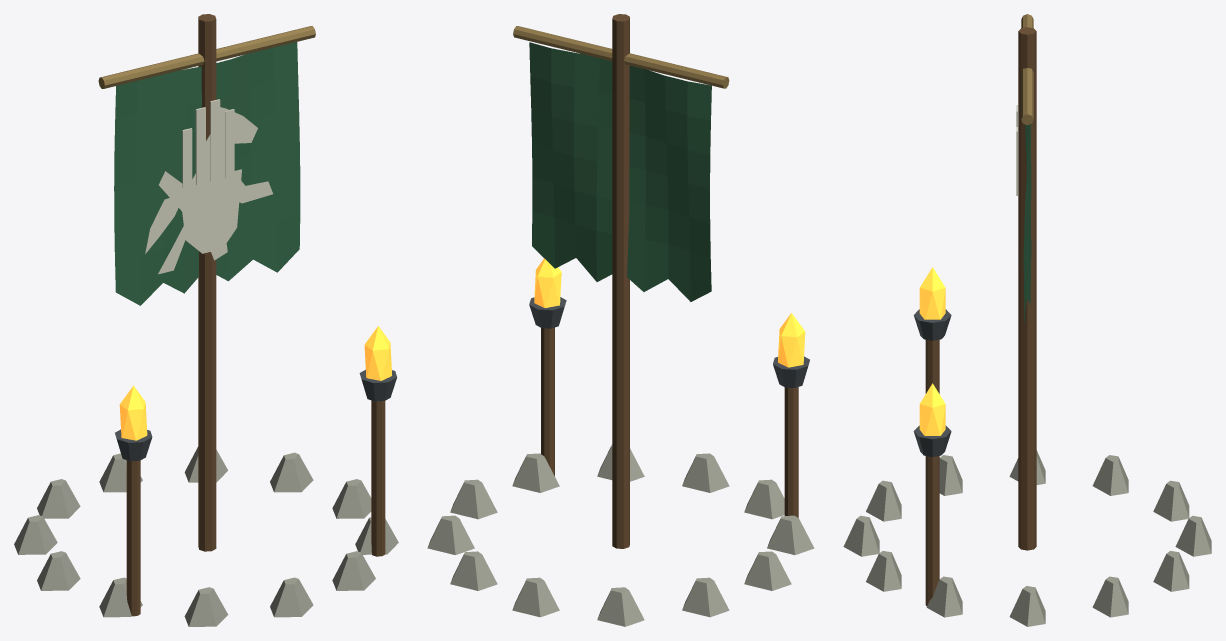
File: vado_nexos.glb
3 views of the same model, side by side, from view 1: azimuth 30°, elevation 25°; view 2: azimuth 150°, elevation 25°; view 3: azimuth 270°, elevation 25° (orthographic). The views are drawn at different scales.
Visible parts, largest first — view 1: nexo_rohan__estandarte, nexo_rohan__mastil, nexo_rohan__caballo_blanco, nexo_rohan__travesano, nexo_isengard__palma, nexo_rohan__antorcha.001, nexo_rohan__antorcha, nexo_rohan__rock_smallA.001, nexo_rohan__rock_smallA.009, nexo_rohan__rock_smallA.010, nexo_rohan__rock_smallA.008, nexo_rohan__rock_smallA.005 (+17 smaller); view 2: nexo_rohan__estandarte, nexo_rohan__mastil, nexo_rohan__travesano, nexo_rohan__antorcha, nexo_rohan__antorcha.001, nexo_rohan__rock_smallA.009, nexo_rohan__rock_smallA.002, nexo_rohan__rock_smallA.004, nexo_rohan__rock_smallA.006, nexo_rohan__rock_smallA.007, nexo_rohan__rock_smallA.011, nexo_rohan__rock_smallA.003 (+9 smaller); view 3: nexo_rohan__mastil, nexo_rohan__antorcha.001, nexo_rohan__estandarte, nexo_rohan__fuego, nexo_rohan__fuego.001, nexo_rohan__rock_smallA.004, nexo_rohan__rock_smallA.002, nexo_rohan__rock_smallA, nexo_rohan__rock_smallA.001, nexo_rohan__rock_smallA.003, nexo_rohan__rock_smallA.009, nexo_rohan__rock_smallA.005 (+8 smaller).
Part boxes in pixels (x1,y1,x2,y2): nexo_rohan__estandarte: [114, 42, 300, 305]; nexo_rohan__mastil: [198, 14, 216, 551]; nexo_rohan__caballo_blanco: [158, 107, 272, 274]; nexo_rohan__travesano: [98, 26, 315, 88]; nexo_isengard__palma: [179, 169, 241, 253]; nexo_rohan__antorcha.001: [371, 400, 385, 556]; nexo_rohan__antorcha: [126, 460, 140, 616]; nexo_rohan__rock_smallA.001: [270, 452, 313, 492]; nexo_rohan__rock_smallA.009: [270, 577, 313, 617]; nexo_rohan__rock_smallA.010: [332, 551, 375, 590]; nexo_rohan__rock_smallA.008: [184, 587, 228, 626]; nexo_rohan__rock_smallA.005: [14, 515, 57, 554]; nexo_rohan__estandarte: [529, 42, 711, 301]; nexo_rohan__mastil: [612, 14, 629, 548]; nexo_rohan__travesano: [513, 26, 729, 88]; nexo_rohan__antorcha: [784, 387, 798, 517]; nexo_rohan__antorcha.001: [541, 327, 554, 475]; nexo_rohan__rock_smallA.009: [682, 453, 729, 492]; nexo_rohan__rock_smallA.002: [450, 551, 497, 590]; nexo_rohan__rock_smallA.004: [597, 587, 644, 626]; nexo_rohan__rock_smallA.006: [744, 551, 791, 590]; nexo_rohan__rock_smallA.007: [767, 515, 814, 554]; nexo_rohan__rock_smallA.011: [512, 453, 559, 492]; nexo_rohan__rock_smallA.003: [512, 577, 559, 617]; nexo_rohan__mastil: [1018, 27, 1036, 550]; nexo_rohan__antorcha.001: [925, 456, 939, 605]; nexo_rohan__estandarte: [1023, 124, 1031, 324]; nexo_rohan__fuego: [919, 267, 945, 319]; nexo_rohan__fuego.001: [919, 383, 945, 435]; nexo_rohan__rock_smallA.004: [1153, 480, 1189, 521]; nexo_rohan__rock_smallA.002: [1153, 551, 1189, 591]; nexo_rohan__rock_smallA: [1009, 586, 1045, 626]; nexo_rohan__rock_smallA.001: [1092, 576, 1128, 617]; nexo_rohan__rock_smallA.003: [1175, 515, 1211, 556]; nexo_rohan__rock_smallA.009: [843, 515, 879, 556]; nexo_rohan__rock_smallA.005: [1092, 455, 1128, 495].
Size of the model in its own units: 4 by 6 by 3.88.
